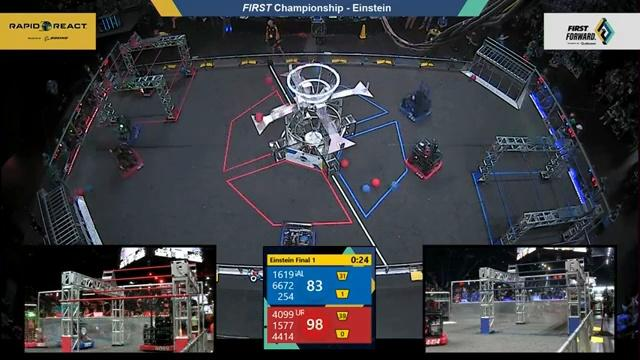robot: (398, 133, 450, 183), (395, 76, 439, 126), (270, 211, 322, 251), (108, 141, 149, 185), (109, 107, 147, 149), (140, 315, 174, 354), (53, 320, 94, 349), (425, 306, 450, 347), (25, 320, 49, 349)
